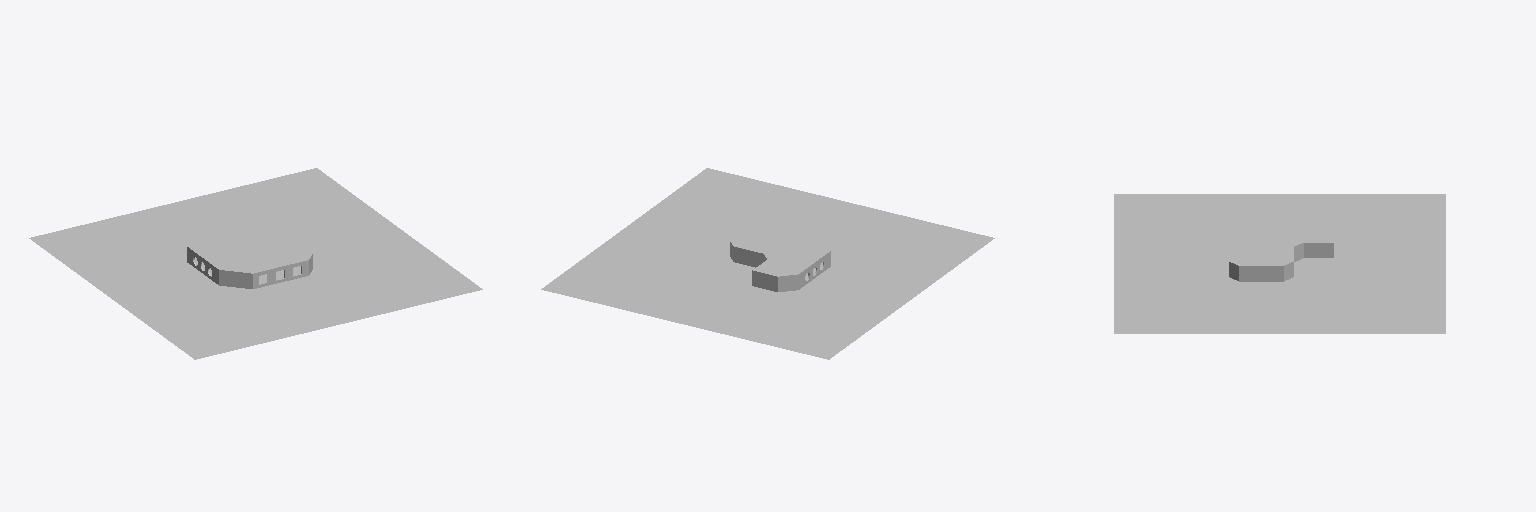
The model's file is test_house.obj.
3 renders of one model, left to right at view 1: azimuth 30°, elevation 25°; view 2: azimuth 150°, elevation 25°; view 3: azimuth 270°, elevation 25°, orthographic.
Visible parts, largest first — view 1: Plane, Boole_3_Boole_Boole_11_Boole_2_Boole2_Boole_1_Boole1_Extrud.003, Boole_3_Boole_Boole_11_Boole_2_Boole2_Boole_1_Boole1_Extrud.004, Boole_3_Boole_Boole_11_Boole_2_Boole2_Boole_1_Boole1_Extrud.000; view 2: Plane, Boole_3_Boole_Boole_11_Boole_2_Boole2_Boole_1_Boole1_Extrud.000, Boole_3_Boole_Boole_11_Boole_2_Boole2_Boole_1_Boole1_Extrud.004, Boole_3_Boole_Boole_11_Boole_2_Boole2_Boole_1_Boole1_Extrud.003; view 3: Plane, Boole_3_Boole_Boole_11_Boole_2_Boole2_Boole_1_Boole1_Extrud.003, Boole_3_Boole_Boole_11_Boole_2_Boole2_Boole_1_Boole1_Extrud.004.
Part boxes in pixels (x1,y1,x2,y2): Plane: (29, 168, 482, 359); Boole_3_Boole_Boole_11_Boole_2_Boole2_Boole_1_Boole1_Extrud.003: (187, 231, 311, 273); Boole_3_Boole_Boole_11_Boole_2_Boole2_Boole_1_Boole1_Extrud.004: (187, 247, 312, 288); Boole_3_Boole_Boole_11_Boole_2_Boole2_Boole_1_Boole1_Extrud.000: (195, 232, 309, 272); Plane: (541, 168, 994, 359); Boole_3_Boole_Boole_11_Boole_2_Boole2_Boole_1_Boole1_Extrud.000: (732, 224, 825, 275); Boole_3_Boole_Boole_11_Boole_2_Boole2_Boole_1_Boole1_Extrud.004: (730, 242, 830, 291); Boole_3_Boole_Boole_11_Boole_2_Boole2_Boole_1_Boole1_Extrud.003: (730, 223, 830, 276); Plane: (1114, 194, 1445, 333); Boole_3_Boole_Boole_11_Boole_2_Boole2_Boole_1_Boole1_Extrud.003: (1229, 224, 1333, 265); Boole_3_Boole_Boole_11_Boole_2_Boole2_Boole_1_Boole1_Extrud.004: (1229, 243, 1333, 281).
Size of the model in its own units: 66.94 by 3.5 by 66.94.